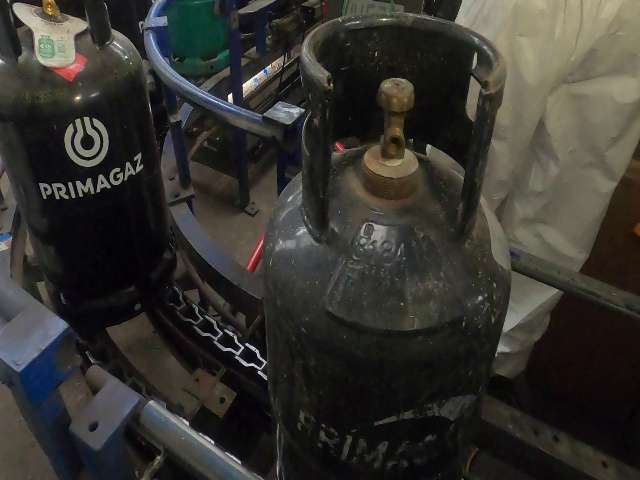gas_bottle: (1, 0, 638, 480)
